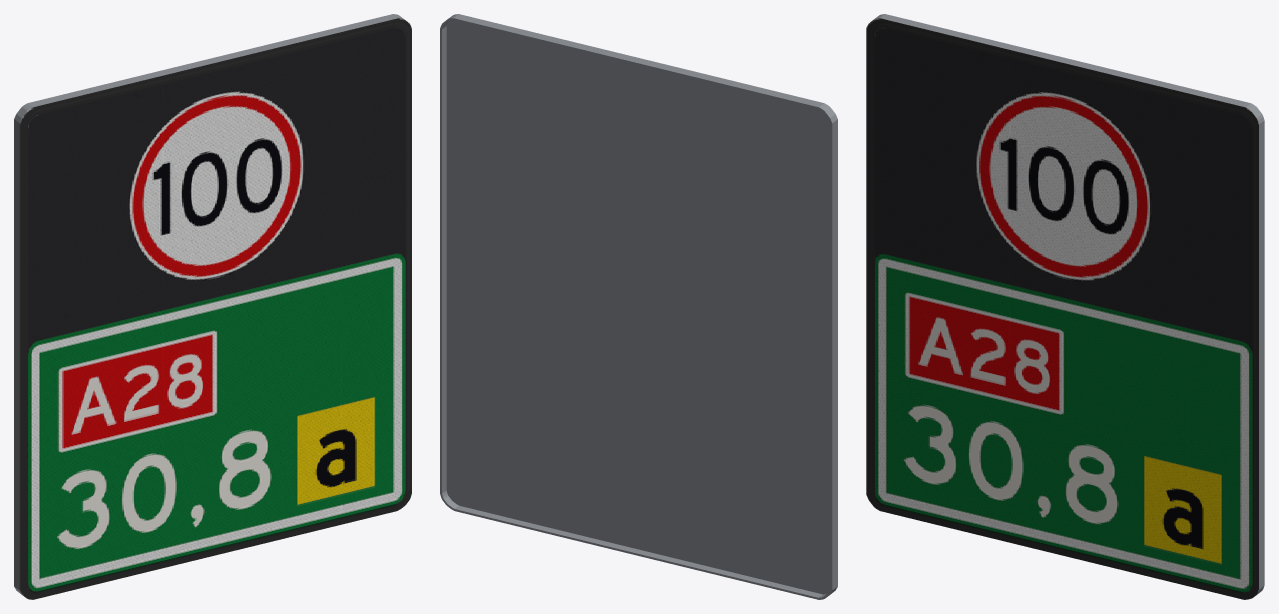
The picture shows the model from 3 angles, left to right: view 1: azimuth 30°, elevation 25°; view 2: azimuth 150°, elevation 25°; view 3: azimuth 330°, elevation 25°; orthographic projection.
Parts seen in each view (by area): view 1: cat_ac9696adcb906ff4; view 2: cat_ac9696adcb906ff4; view 3: cat_ac9696adcb906ff4.
Boxes of the visible parts, x1,y1,x2,y2 form: cat_ac9696adcb906ff4: [14, 14, 411, 599]; cat_ac9696adcb906ff4: [440, 14, 837, 599]; cat_ac9696adcb906ff4: [866, 14, 1264, 599].
Size of the model in its own units: 0.6 by 0.015 by 0.72.
Materials: 2 (1 with a texture image).
